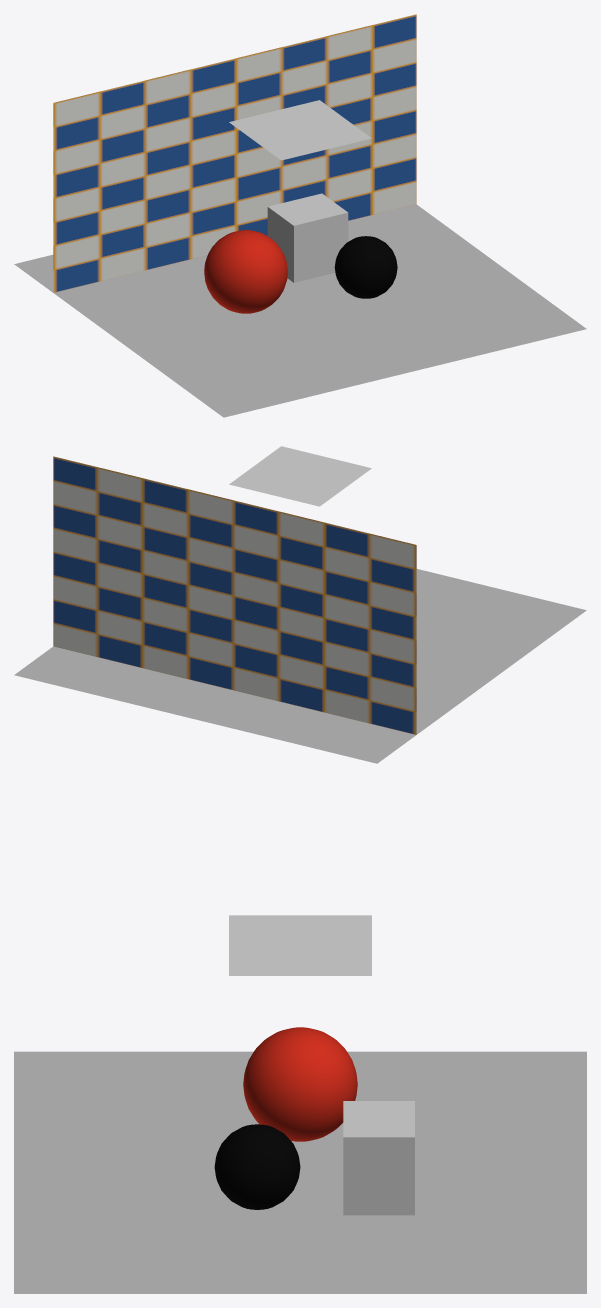
The model's file is shaderball.obj.
3 renders of one model, top to bottom at view 1: azimuth 30°, elevation 25°; view 2: azimuth 150°, elevation 25°; view 3: azimuth 270°, elevation 25°, orthographic. The views are drawn at different scales.
Parts seen in each view (by area): view 1: Backdrop, Floor, Ball, Cube, Light, GlassBall; view 2: Backdrop, Floor, Light; view 3: Floor, Ball, Light, Cube, GlassBall.
Part boxes in pixels (bbox=[...]): Backdrop: bbox=[53, 14, 416, 292]; Floor: bbox=[14, 204, 586, 417]; Ball: bbox=[204, 230, 287, 313]; Cube: bbox=[267, 193, 348, 282]; Light: bbox=[229, 100, 371, 160]; GlassBall: bbox=[334, 236, 397, 298]; Backdrop: bbox=[53, 456, 416, 734]; Floor: bbox=[14, 569, 586, 763]; Light: bbox=[229, 446, 371, 506]; Floor: bbox=[14, 1051, 586, 1293]; Ball: bbox=[243, 1027, 357, 1141]; Light: bbox=[229, 915, 371, 975]; Cube: bbox=[343, 1101, 414, 1215]; GlassBall: bbox=[214, 1124, 300, 1209].
Bounding box in the file's own units: 8 × 4 × 8.
6 materials, 1 textured.
